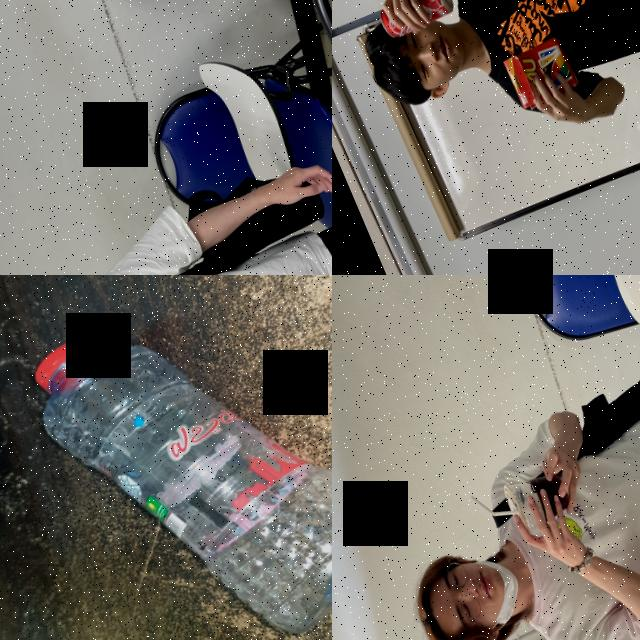bottle: (1, 275, 332, 640)
can: (374, 0, 457, 41)
cup: (498, 461, 579, 542)
